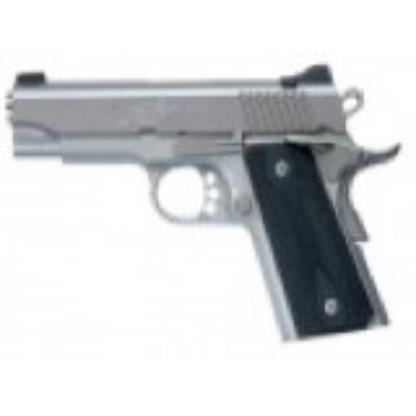gun: (7, 63, 386, 341)
